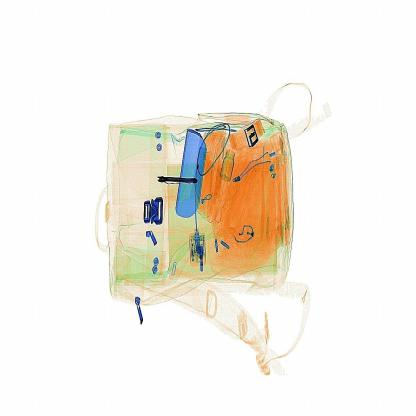knife: (155, 170, 201, 198)
